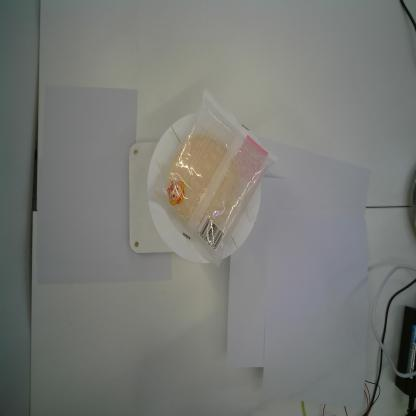Dessert: (142, 84, 280, 275)
